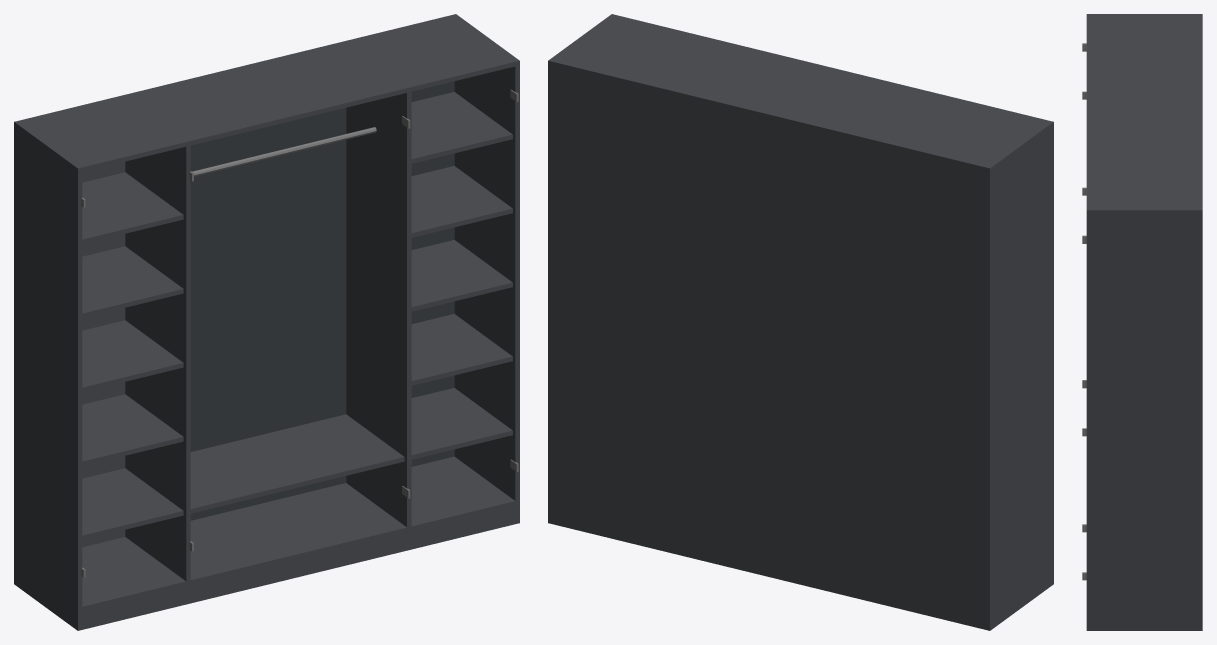
File: Wardrobe3_C2.fbx
3 views of the same model, side by side, from view 1: azimuth 30°, elevation 25°; view 2: azimuth 150°, elevation 25°; view 3: azimuth 270°, elevation 25° (orthographic). The views are drawn at different scales.
Parts seen in each view (by area): view 1: Wardrobe3_C2; view 2: Wardrobe3_C2; view 3: Wardrobe3_C2.
Boxes of the visible parts, left/top/right/bottom form: Wardrobe3_C2: left=14, top=14, right=519, bottom=630; Wardrobe3_C2: left=548, top=14, right=1053, bottom=630; Wardrobe3_C2: left=1082, top=14, right=1202, bottom=630.
Size of the model in its own units: 200 by 200 by 51.79.
